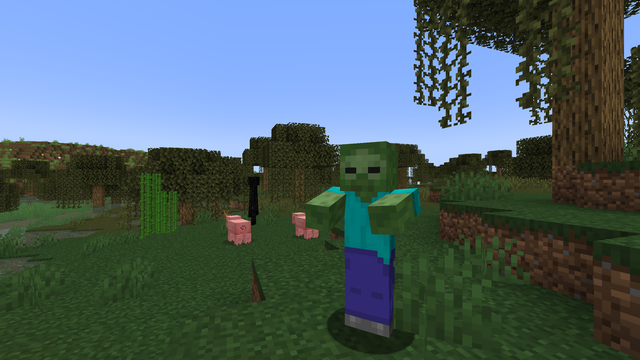cochons: (227, 218, 250, 244), (294, 215, 318, 238)
endermens: (247, 175, 258, 225)
zombies: (334, 145, 409, 347)
